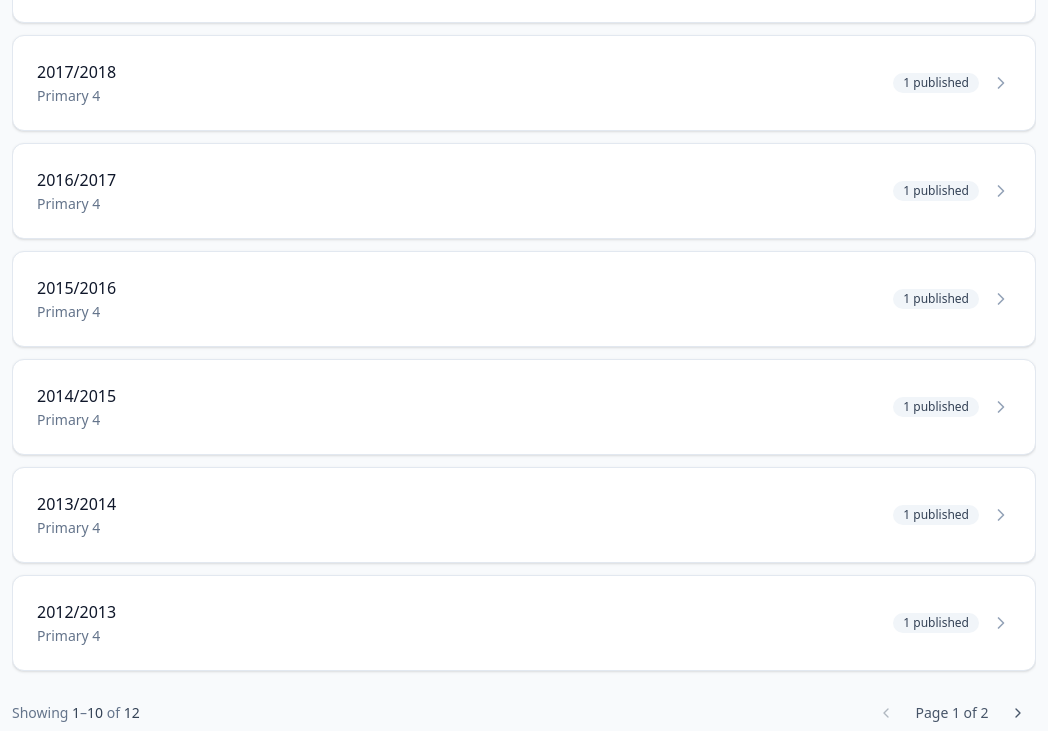
WardSessionsPage (step 2 - sessions) › pages sessions ten at a time and honours ?page= in the URL
This screenshot has width=1048, height=731.
(page scrolled)
Expected: the text "2012/2013" is shown, [37, 601, 116, 623]
Expected: the text "2011/2012" is not shown
Click the button named "Next page" at (1018, 713), box [1000, 695, 1036, 730]
(page scrolled)
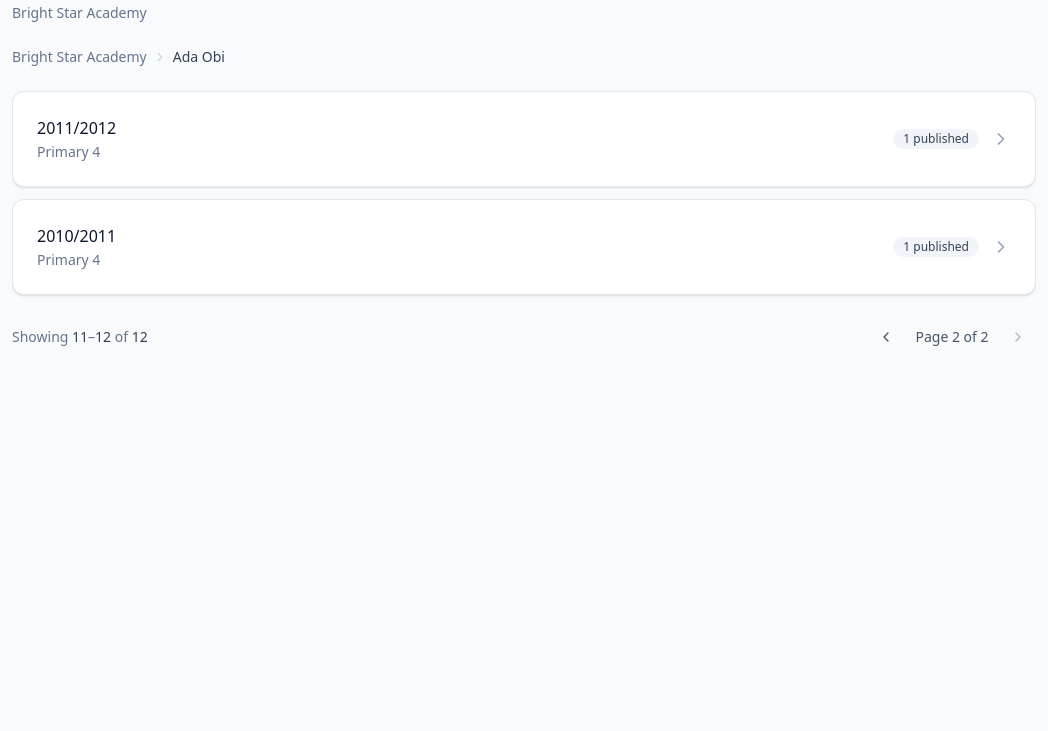
Expected: the text "2011/2012" is shown, [37, 117, 116, 139]
Expected: the text "2010/2011" is shown, [37, 225, 116, 247]
